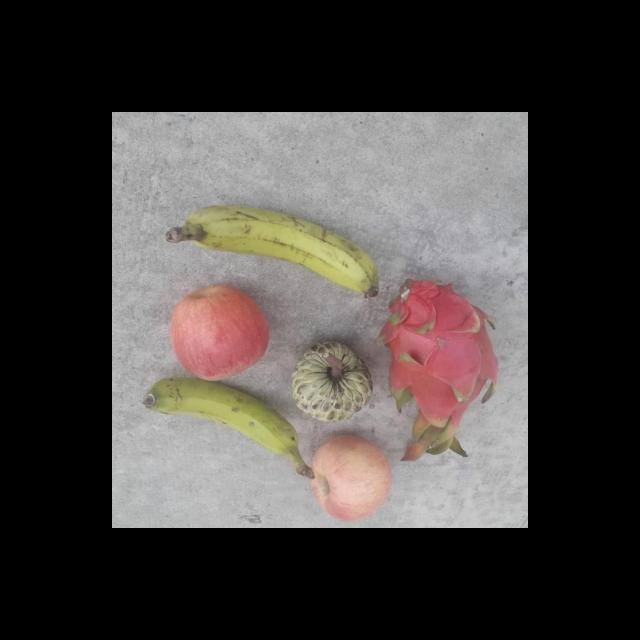Sakya fruit: (292, 339, 374, 422)
apple: (168, 284, 270, 380), (308, 434, 392, 523)
banana: (166, 202, 383, 300), (142, 376, 318, 479)
pitaya: (378, 277, 502, 462)
